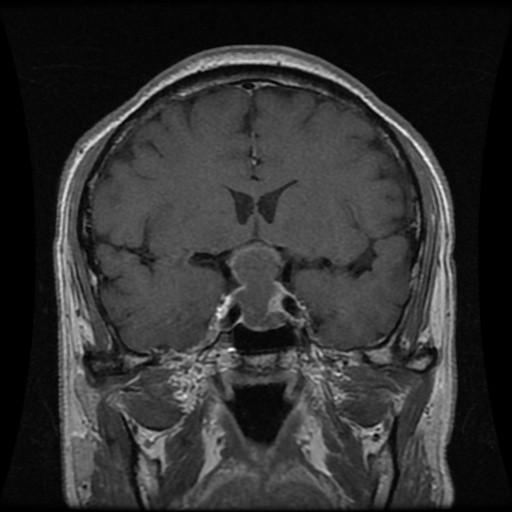pituitary: (216, 242, 293, 330)
